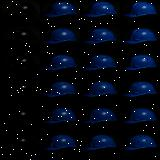Helmet: (120, 80, 160, 103), (41, 80, 79, 102), (1, 79, 38, 101), (42, 27, 78, 49), (42, 54, 78, 76), (81, 1, 118, 21), (2, 27, 39, 47), (81, 28, 118, 48), (1, 54, 38, 74), (121, 108, 158, 128), (121, 134, 158, 154), (2, 1, 37, 22), (122, 28, 158, 48), (121, 54, 157, 74), (2, 108, 38, 128), (42, 108, 78, 128), (82, 108, 118, 128), (82, 134, 118, 154), (42, 134, 78, 154), (81, 81, 118, 100), (42, 2, 78, 21), (121, 2, 158, 20), (81, 56, 118, 74), (1, 135, 38, 153)
